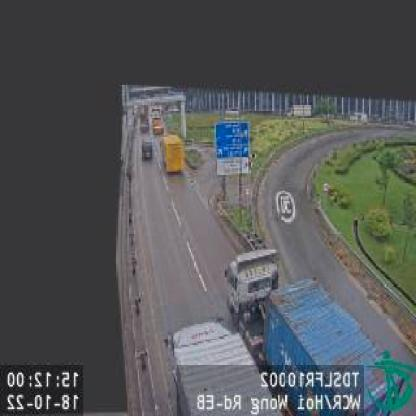Car: (142, 140, 154, 160)
Truck: (224, 246, 402, 412), (168, 320, 282, 414), (161, 134, 184, 175), (148, 106, 164, 136)
